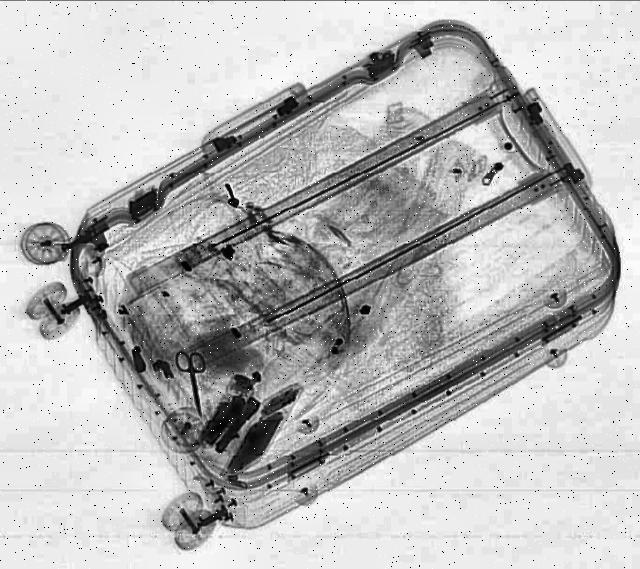Scissors: (176, 351, 218, 421)
